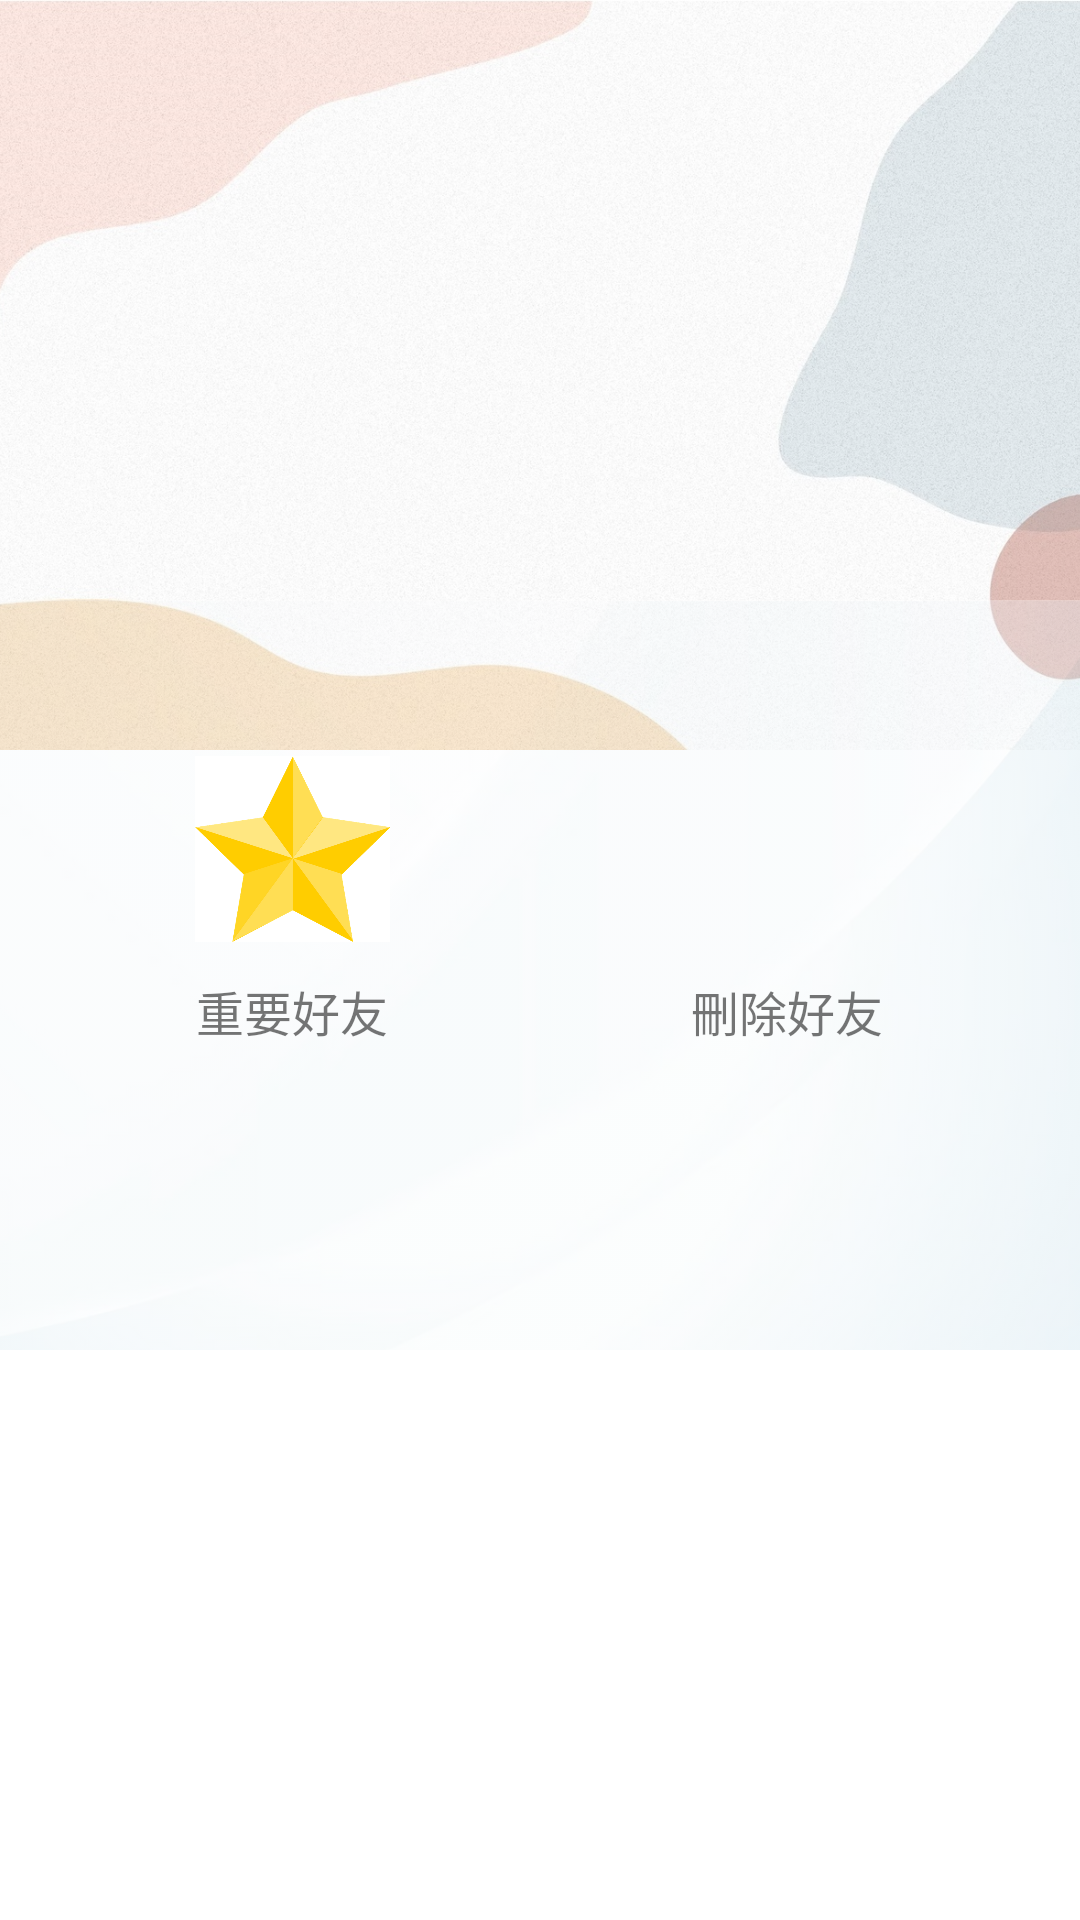

Icons on this 1080 x 1920 Android screen, each with the point to tap as [x,y]:
contact star: [292,849]
